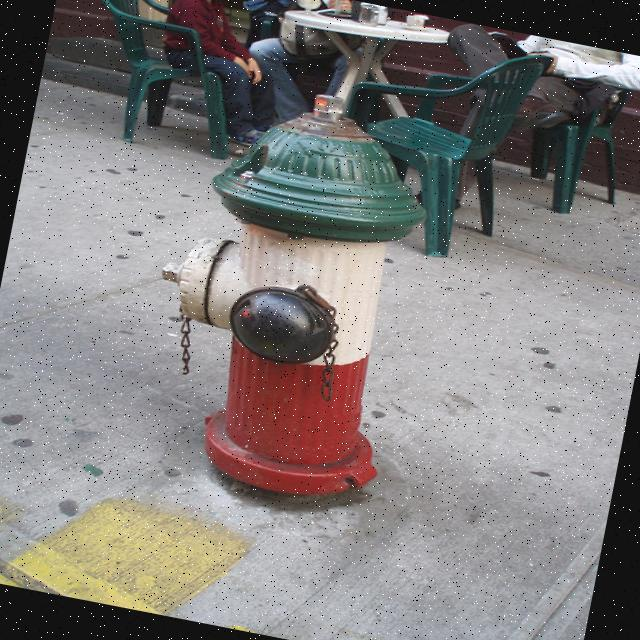fire_hydrant: (127, 69, 450, 513)
